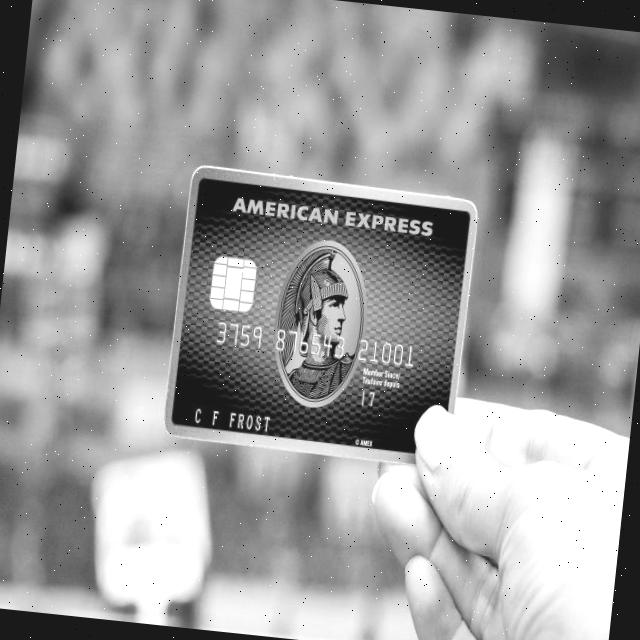card: (160, 168, 486, 472)
